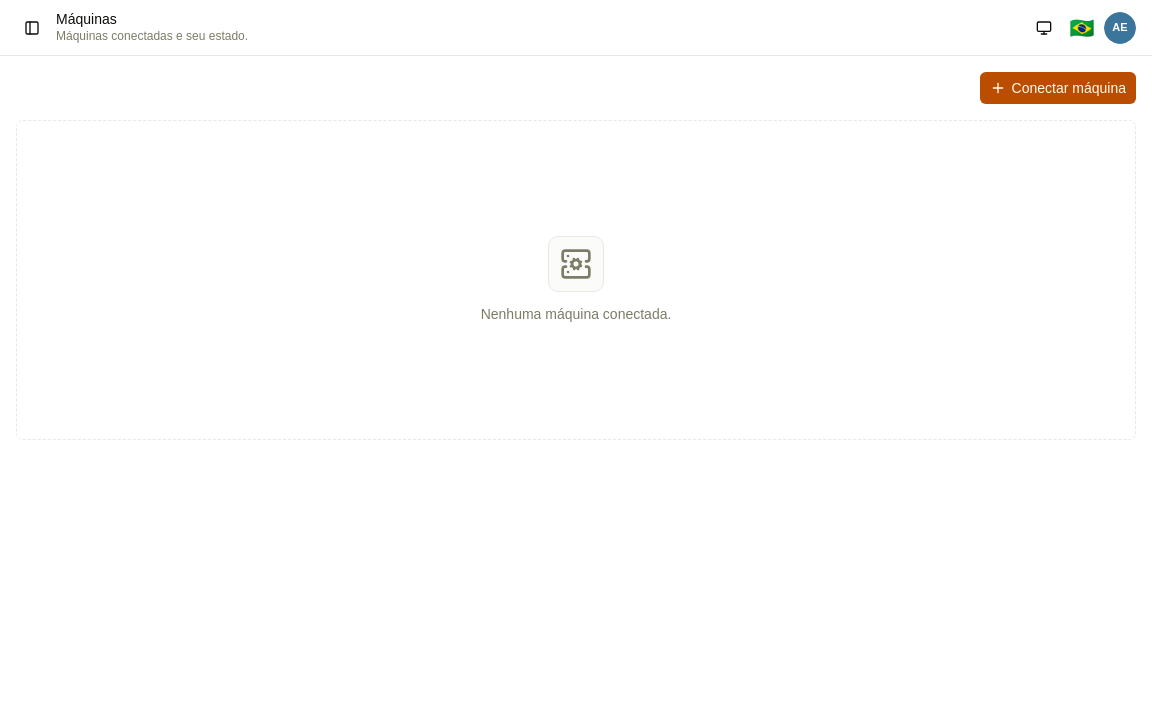
Test: connect machine dialog › shows the button with the empty list and opens the dialog from it
The image size is (1152, 720).
Expected: the text "Nenhuma máquina conectada." is shown, x1=481 y1=304 x2=671 y2=324
Click the button "Conectar máquina" at [1058, 88], box x1=980 y1=72 x2=1136 y2=104
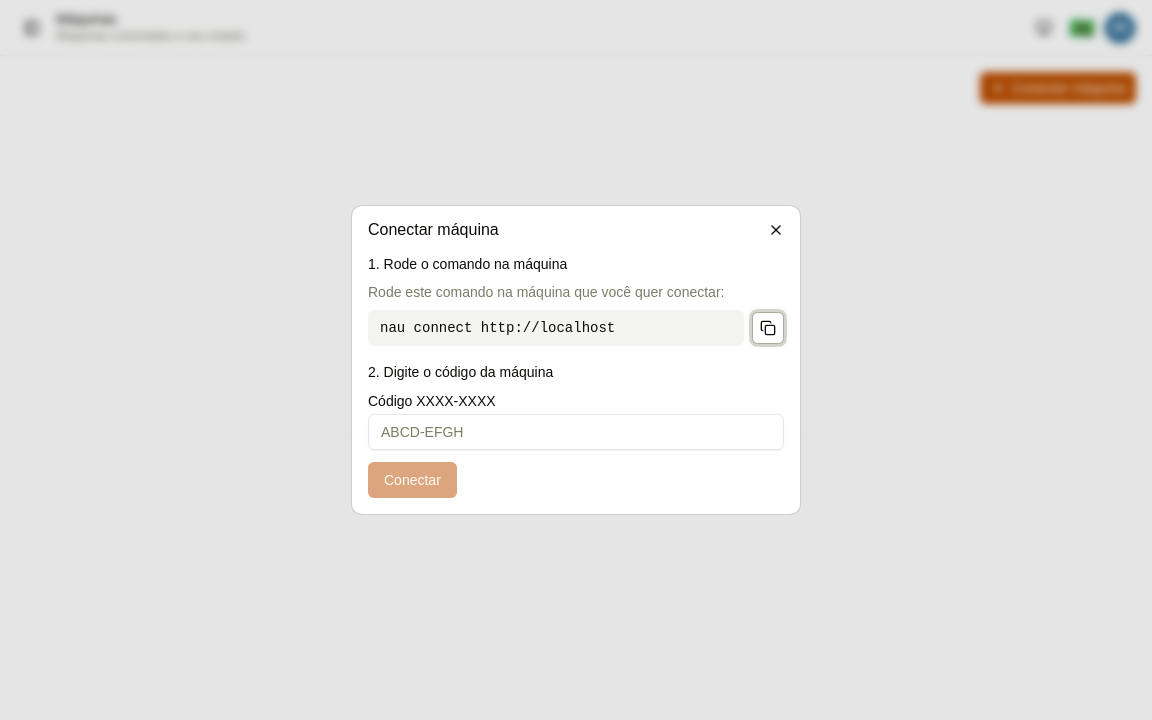
Now the heading "1. Rode o comando na máquina" is shown, box x1=368 y1=256 x2=567 y2=272
